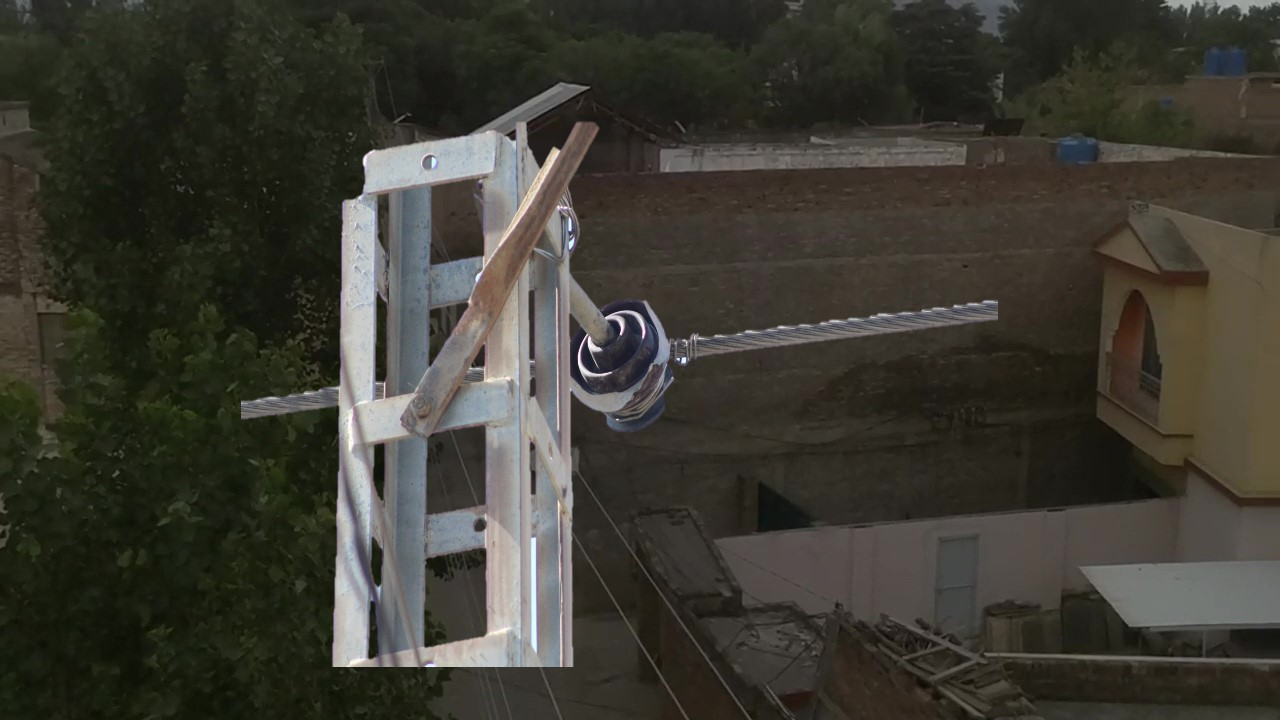defect_pin: (565, 284, 687, 441)
